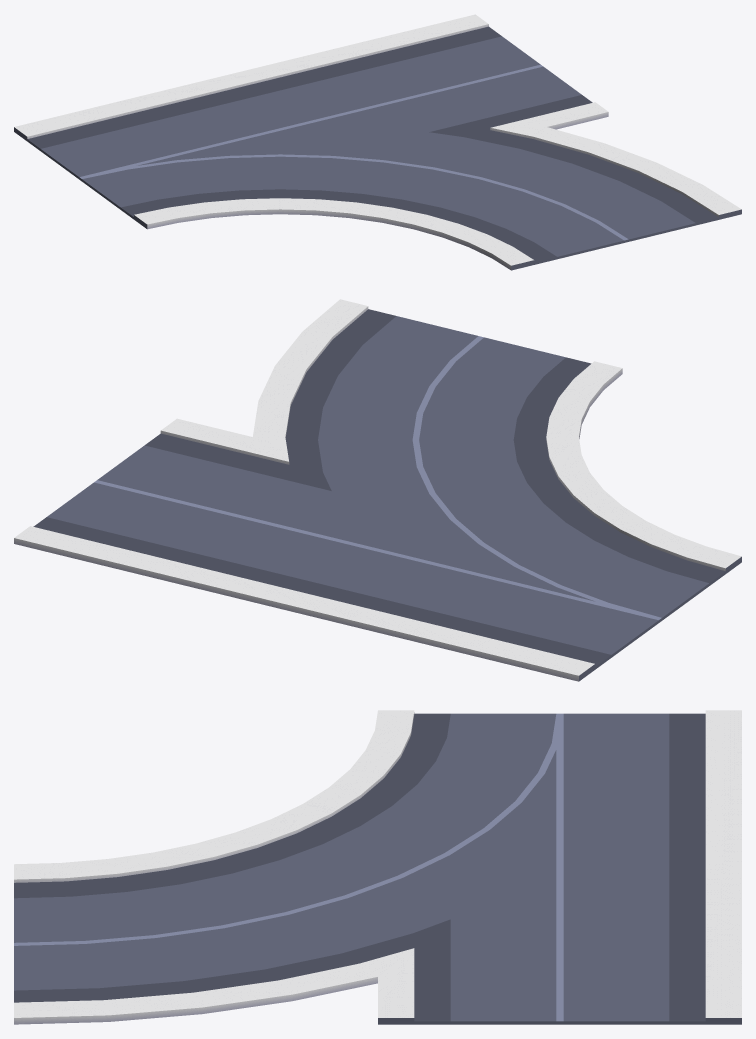
Rendered from road-curve-intersection.glb.
3 views of the same model, one above another, from view 1: azimuth 30°, elevation 25°; view 2: azimuth 150°, elevation 25°; view 3: azimuth 270°, elevation 25° (orthographic). The views are drawn at different scales.
Visible parts, largest first — view 1: road-curve-intersection; view 2: road-curve-intersection; view 3: road-curve-intersection.
Boxes of the visible parts, x1,y1,x2,y2 form: road-curve-intersection: (14,14,741,270); road-curve-intersection: (14,299,741,681); road-curve-intersection: (14,710,741,1024).
Bounding box in the file's own units: 2 × 0.02 × 2.
1 material, 1 textured.
